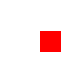square: (40, 31, 60, 51)
